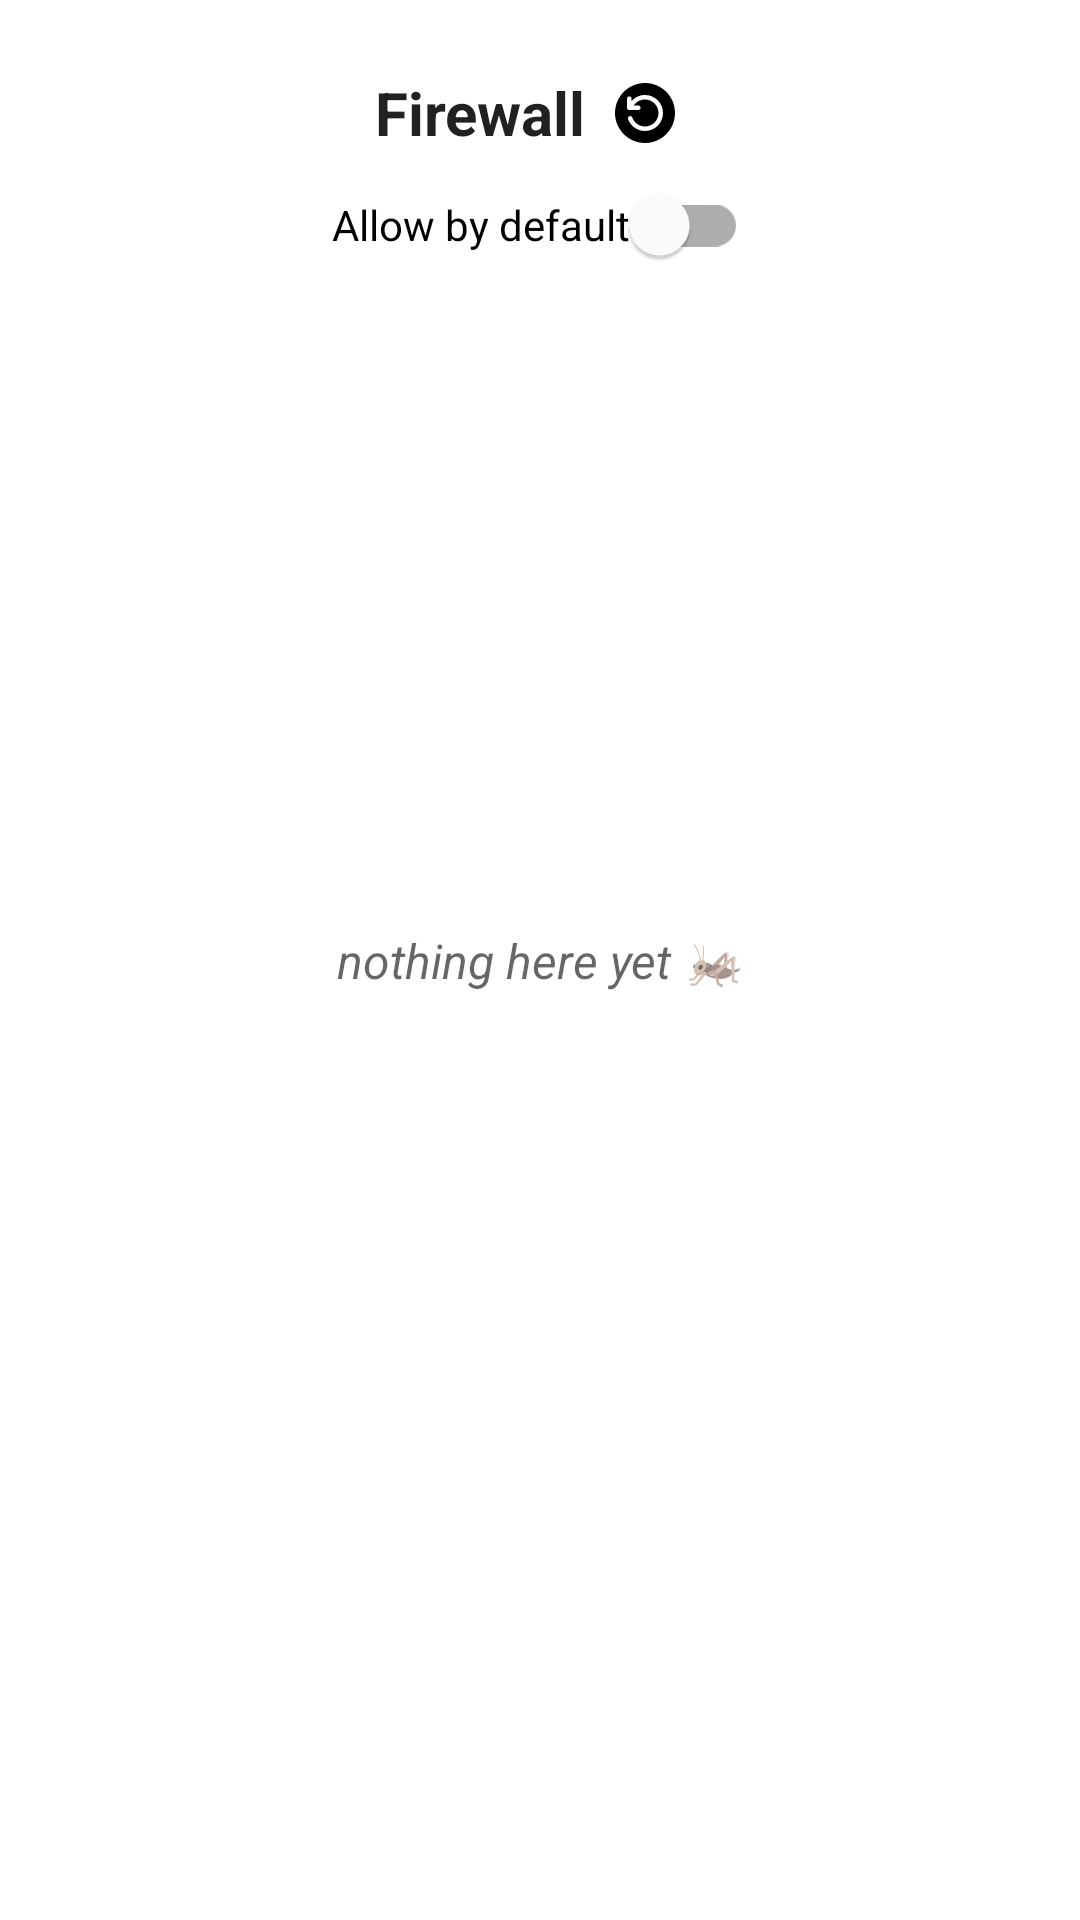

Screen size 1080w x 1920h. Icon name, then its box in pixels as (x1, y1, x2, y2):
refresh: (615, 83, 675, 143)
